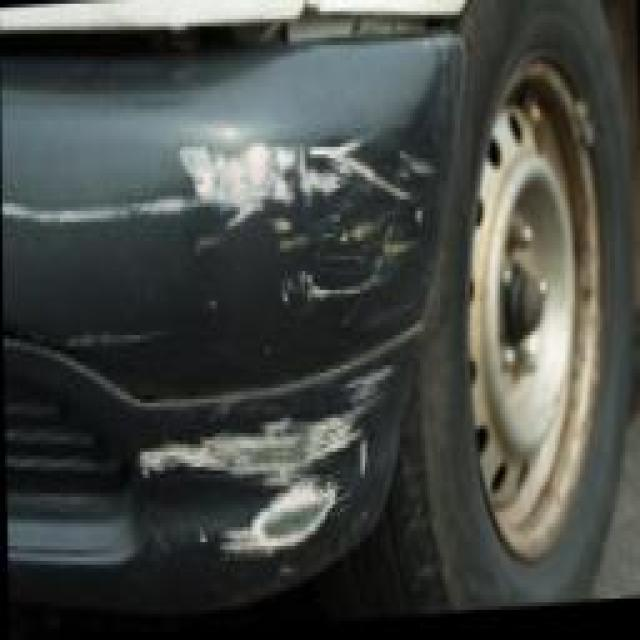Bumper: (2, 27, 464, 615)
